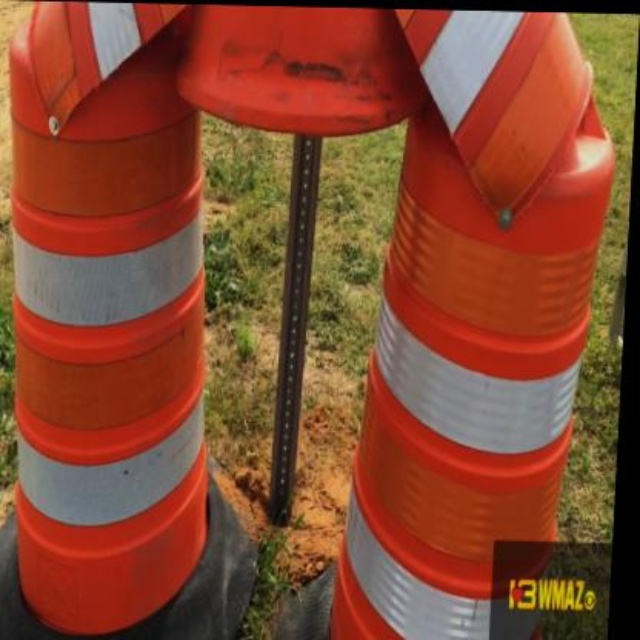obstacle: (0, 20, 251, 632)
